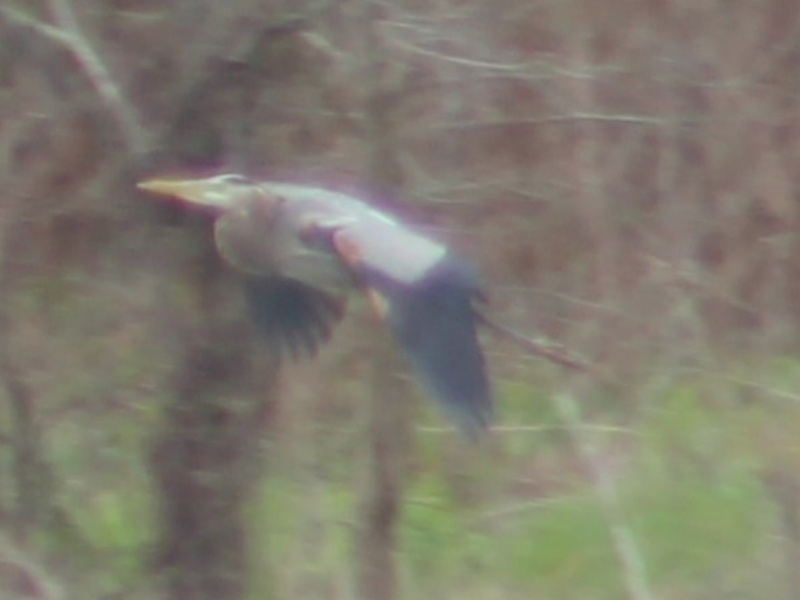heron: (129, 164, 609, 438)
